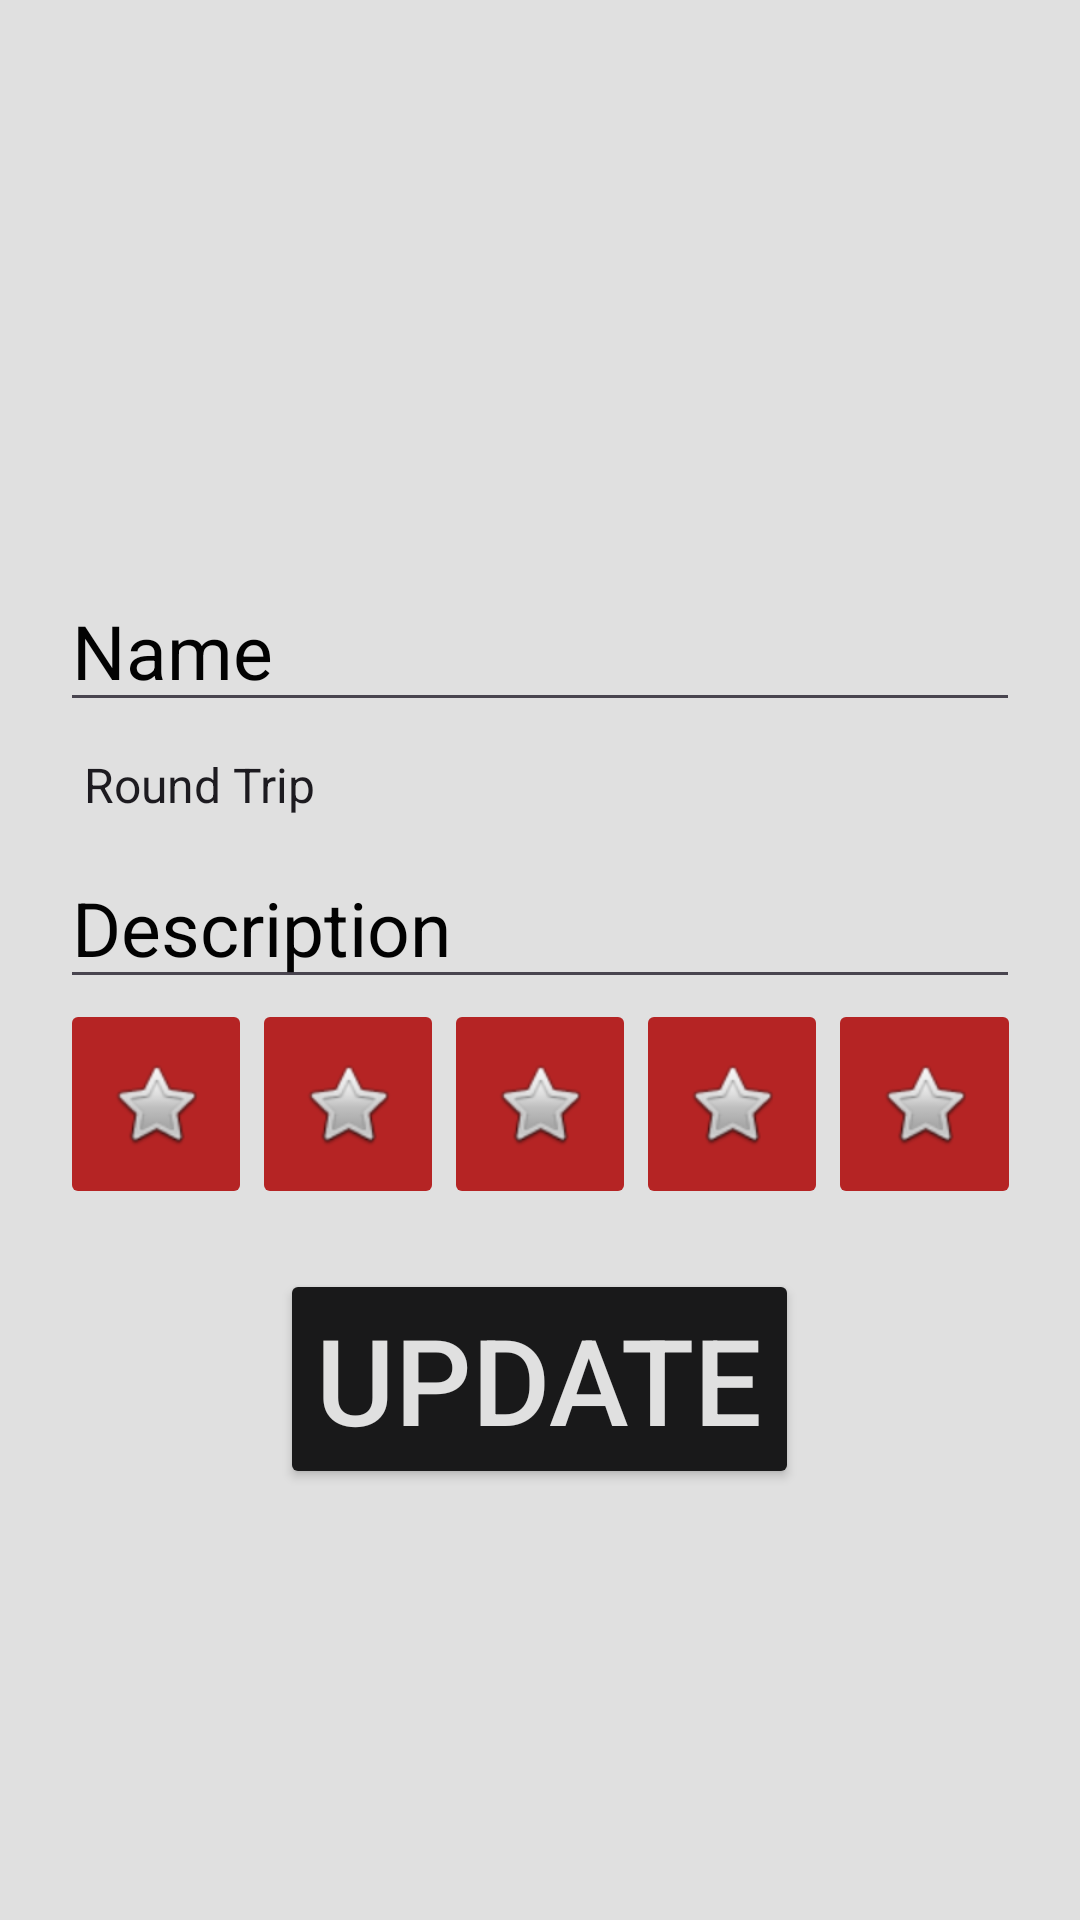

Icons on this 1080 x 1920 Android screen, each with the point to tap as [x,y]:
star off: [156,1104], [348,1104], [540,1104], [732,1104], [924,1104]
